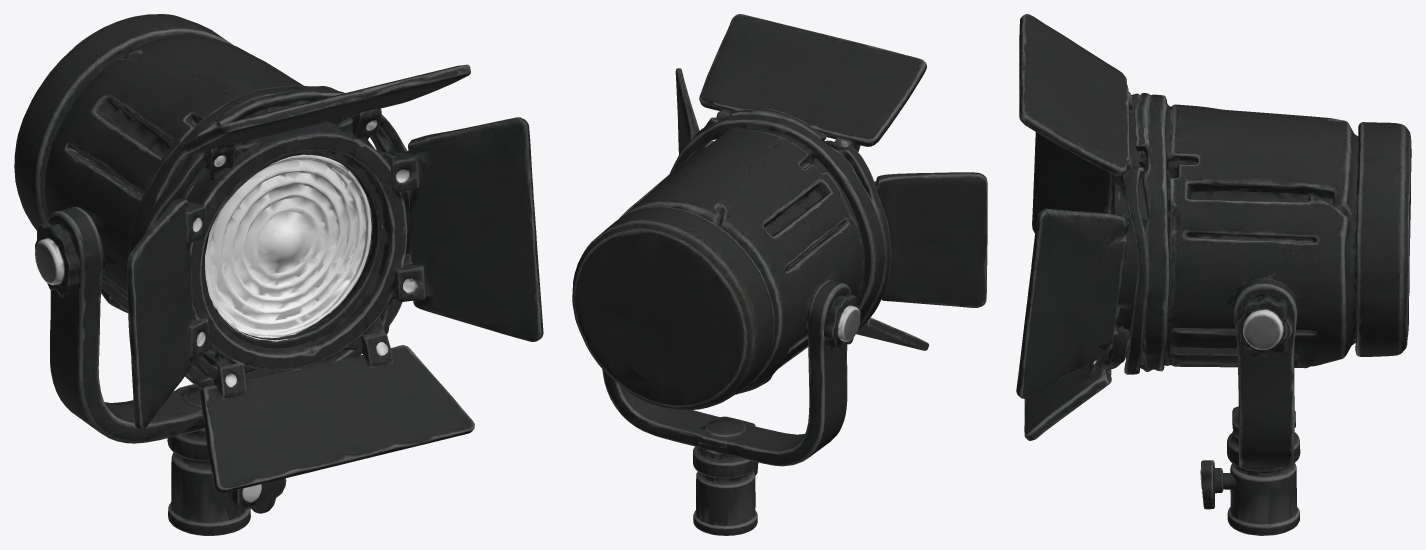
Rendered from stage_light.glb.
3 renders of one model, left to right at view 1: azimuth 30°, elevation 25°; view 2: azimuth 150°, elevation 25°; view 3: azimuth 270°, elevation 25°, orthographic. The views are drawn at different scales.
Bounding box in the file's own units: 1.53 × 1.9 × 1.48.
1 material, 1 textured.
